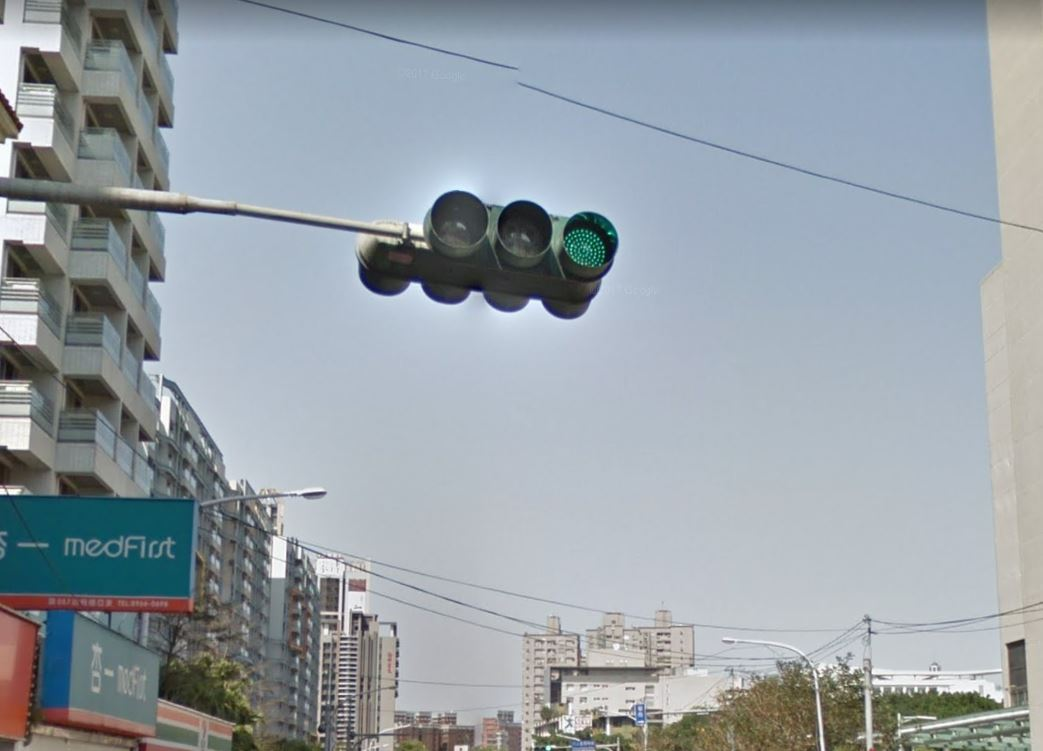Traffic_light_green: (346, 157, 626, 349)
